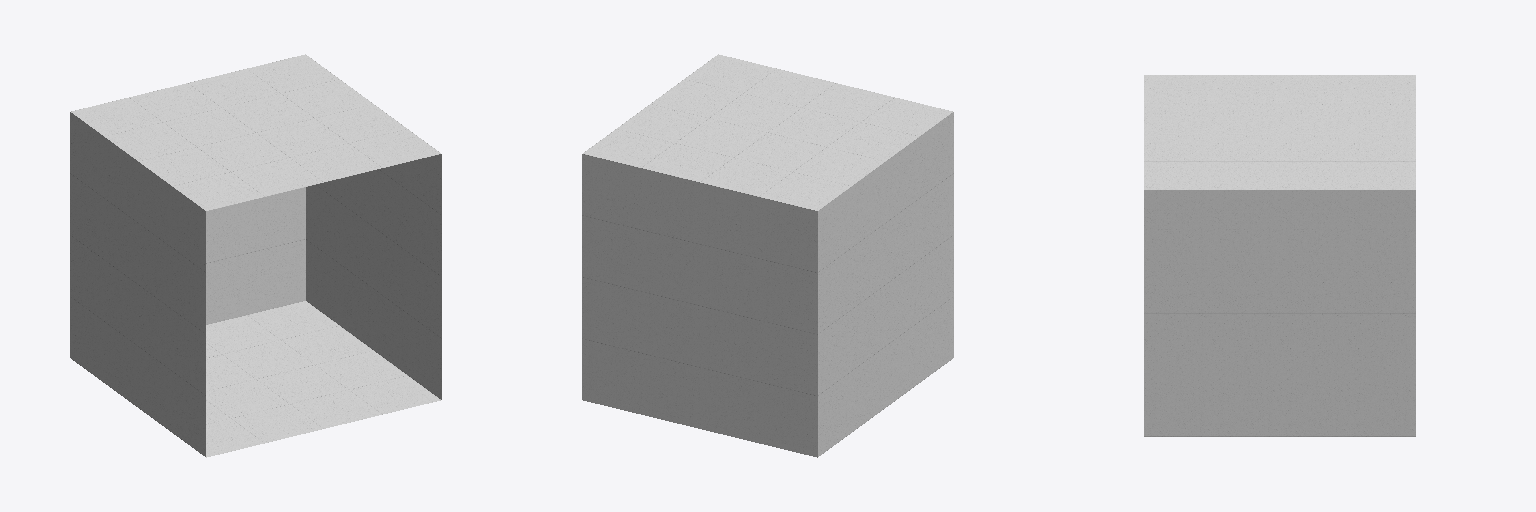
The picture shows the model from 3 angles: view 1: azimuth 30°, elevation 25°; view 2: azimuth 150°, elevation 25°; view 3: azimuth 270°, elevation 25°; orthographic projection.
Visible parts, largest first — view 1: Cube.023_Cube.008; view 2: Cube.023_Cube.008; view 3: Cube.023_Cube.008.
Part boxes in pixels (left/top/right/bottom): Cube.023_Cube.008: left=70, top=54, right=441, bottom=457; Cube.023_Cube.008: left=582, top=54, right=953, bottom=457; Cube.023_Cube.008: left=1144, top=75, right=1415, bottom=436.
Size of the model in its own units: 200 by 200 by 200.
1 materials, 1 textured.